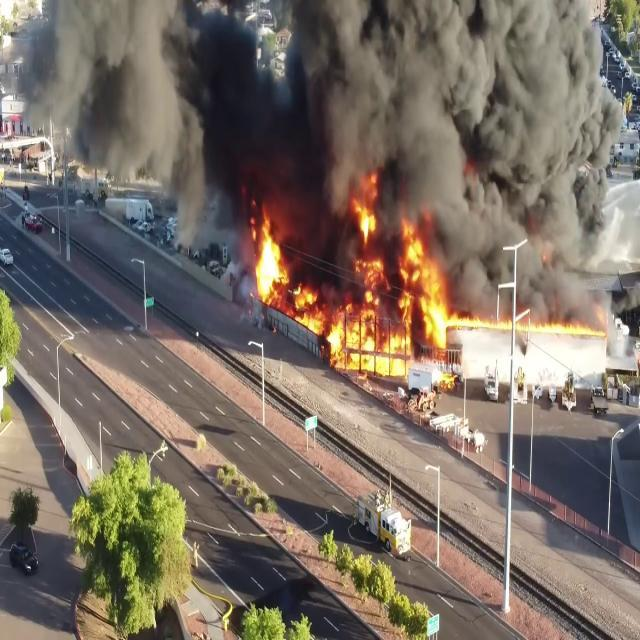Fire: (323, 199, 459, 382), (245, 210, 321, 334), (460, 311, 611, 340)
Smoke: (196, 0, 635, 236), (13, 0, 188, 168)
